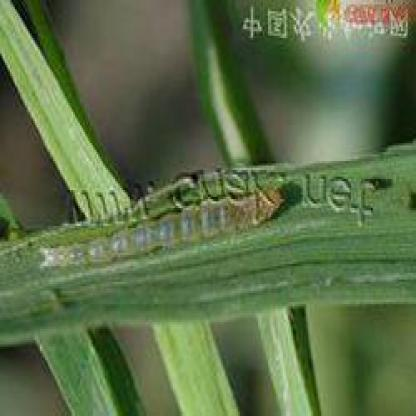leaf-folder: (41, 180, 296, 272)
